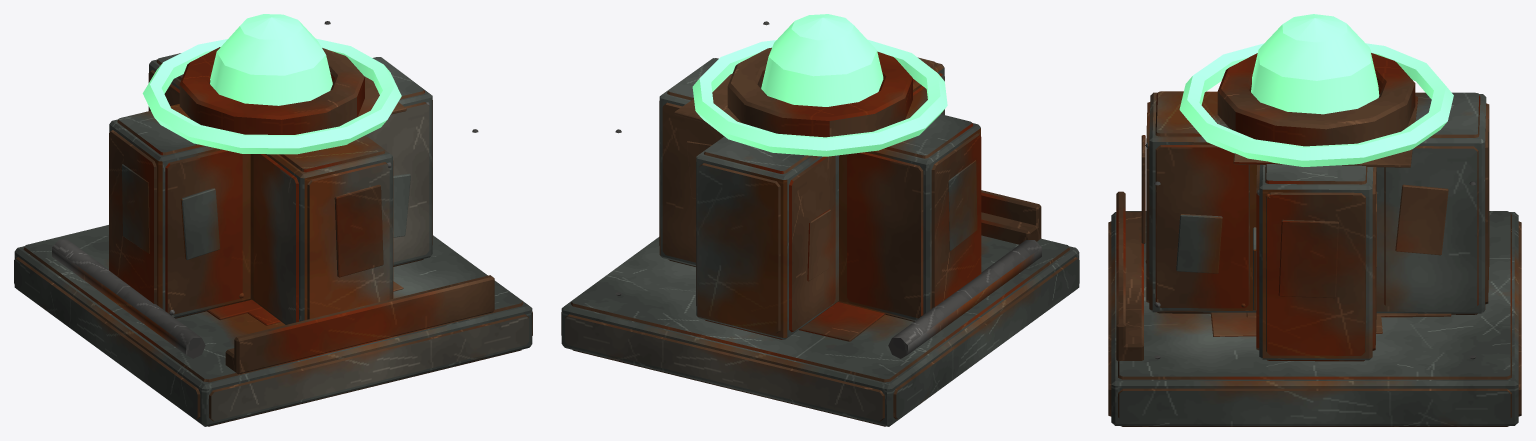
File: R4X_RepairPulse.glb
3 renders of one model, left to right at view 1: azimuth 30°, elevation 25°; view 2: azimuth 150°, elevation 25°; view 3: azimuth 270°, elevation 25°, orthographic. The views are drawn at different scales.
Parts seen in each view (by area): view 1: R4X_RepairPulse_Body; view 2: R4X_RepairPulse_Body; view 3: R4X_RepairPulse_Body.
Boxes of the visible parts, <box> form: R4X_RepairPulse_Body: <box>14,14,532,426</box>; R4X_RepairPulse_Body: <box>561,14,1079,426</box>; R4X_RepairPulse_Body: <box>1108,14,1521,426</box>.
Bounding box in the file's own units: 0.52 × 0.4512 × 0.52.
Materials: 5 (4 with a texture image).
